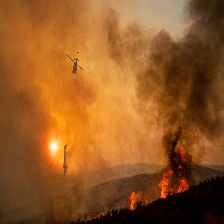fire: (159, 148, 187, 200), (128, 190, 146, 213), (80, 212, 108, 222)
smoke: (1, 1, 99, 211), (103, 1, 224, 160)
